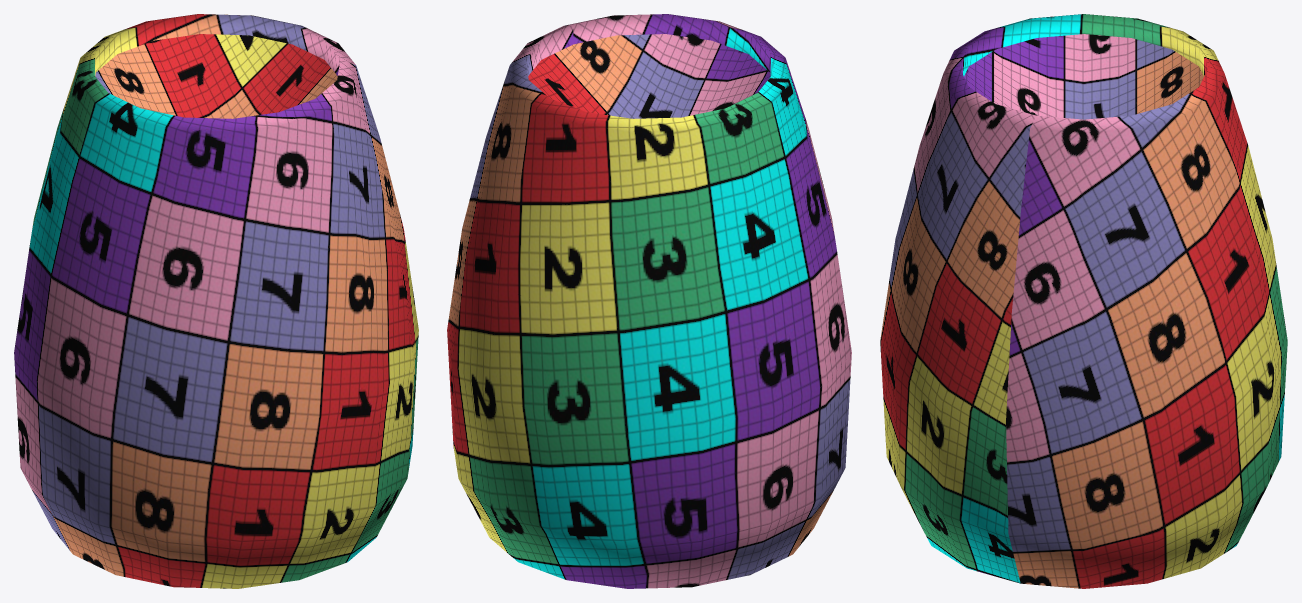
The model's file is fiber_connect_02.fbx.
The picture shows the model from 3 angles, left to right: view 1: azimuth 30°, elevation 25°; view 2: azimuth 150°, elevation 25°; view 3: azimuth 270°, elevation 25°; orthographic projection.
Parts seen in each view (by area): view 1: fiber_connect_02; view 2: fiber_connect_02; view 3: fiber_connect_02.
Part boxes in pixels (x1,y1,x2,y2): fiber_connect_02: (14,14,418,588); fiber_connect_02: (447,14,851,588); fiber_connect_02: (880,14,1287,588).
Size of the model in its own units: 85.88 by 105 by 85.88.
1 material, 1 textured.
